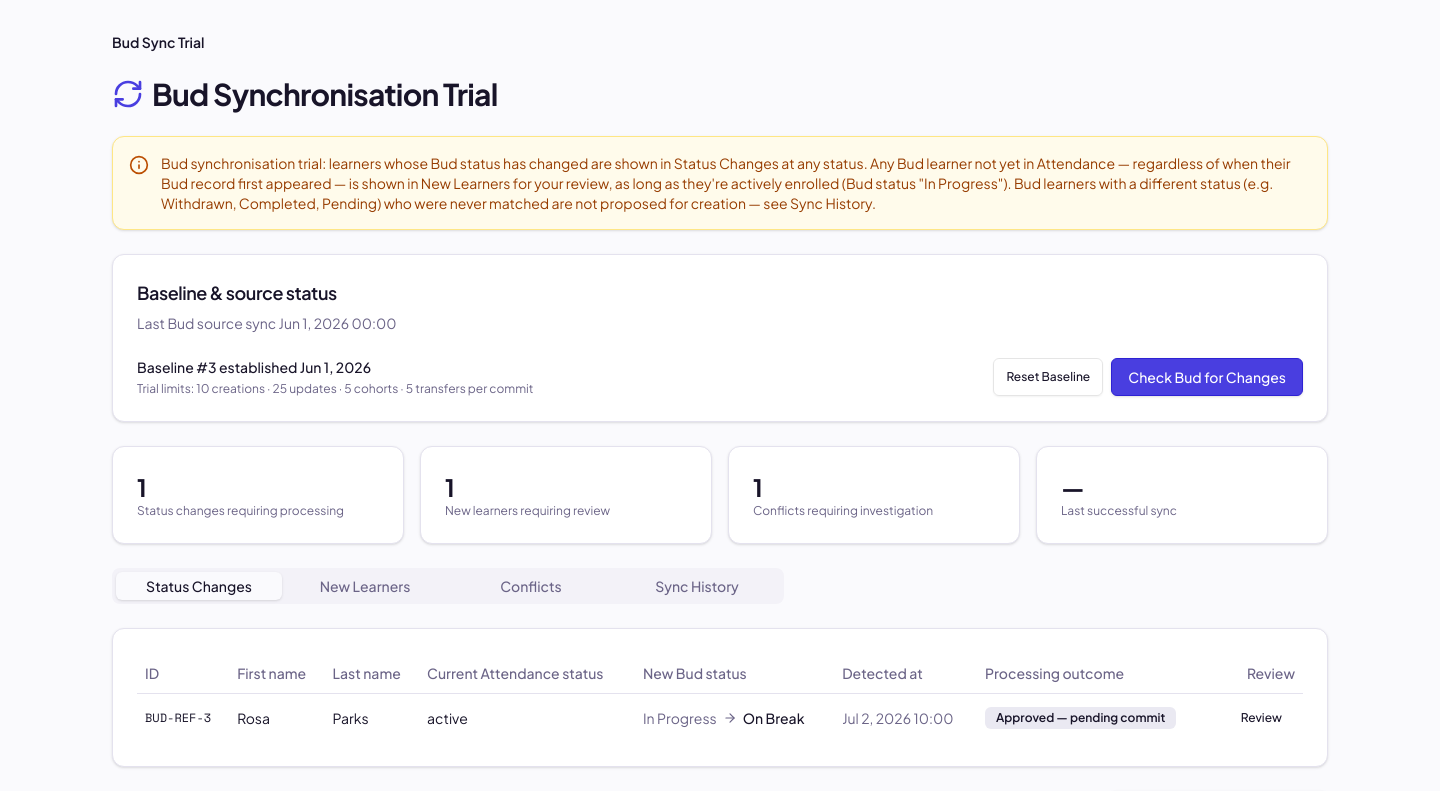
Test: BudSyncTrialPage › New Learners tab paginates once there are more results than fit on one page
The image size is (1440, 791).
Click the tab "New Learners" at (365, 586), box [282,572,448,600]
(page scrolled)
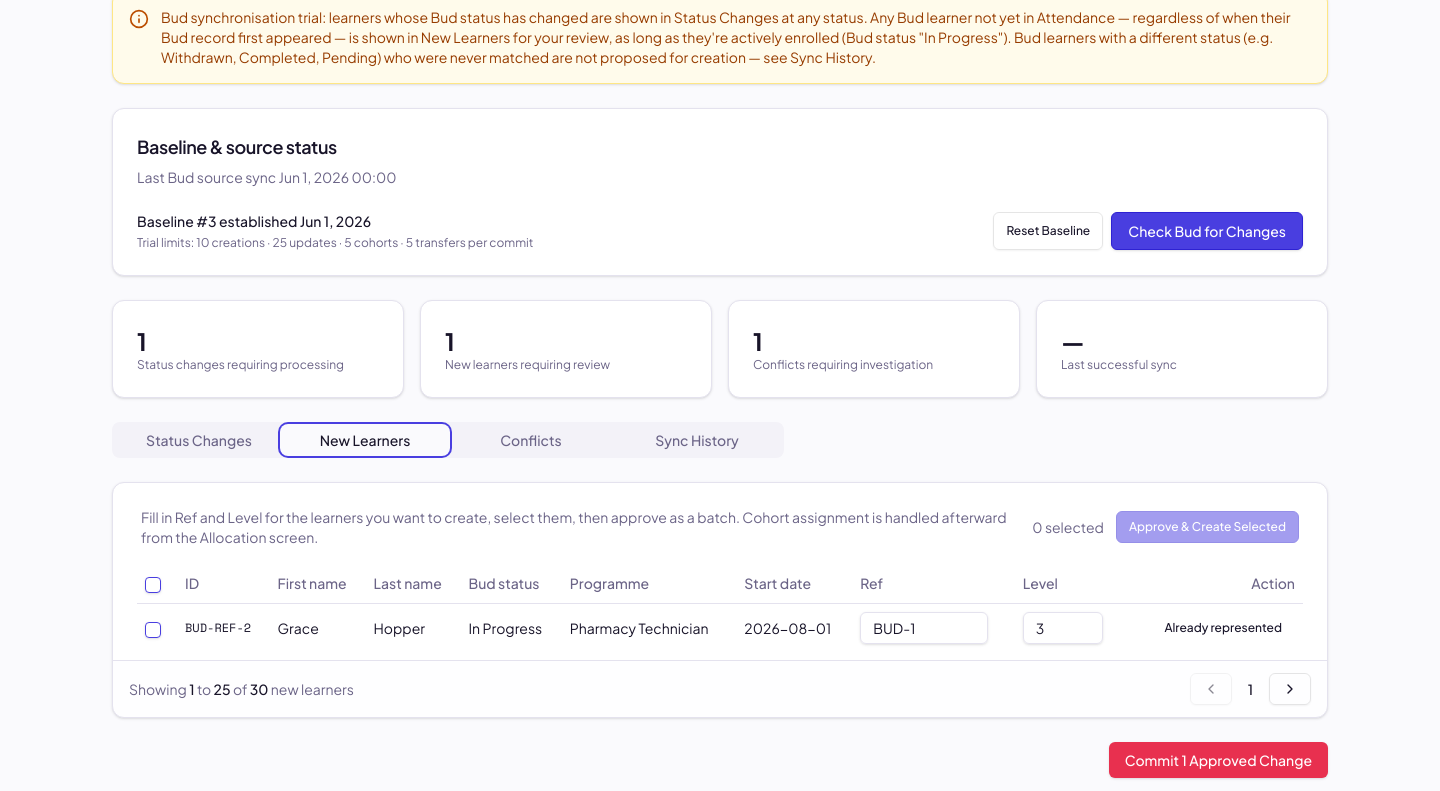
Result: the element with test id "new-learners-pager-summary" reads "Showing 1 to 25 of 30 new learners" at [129,678,354,698]
Result: the button named "previous page of new learners" is disabled at [1190,672,1232,704]
Result: the button named "next page of new learners" is enabled
Click the button named "next page of new learners" at (1290, 688), box [1269,672,1311,704]
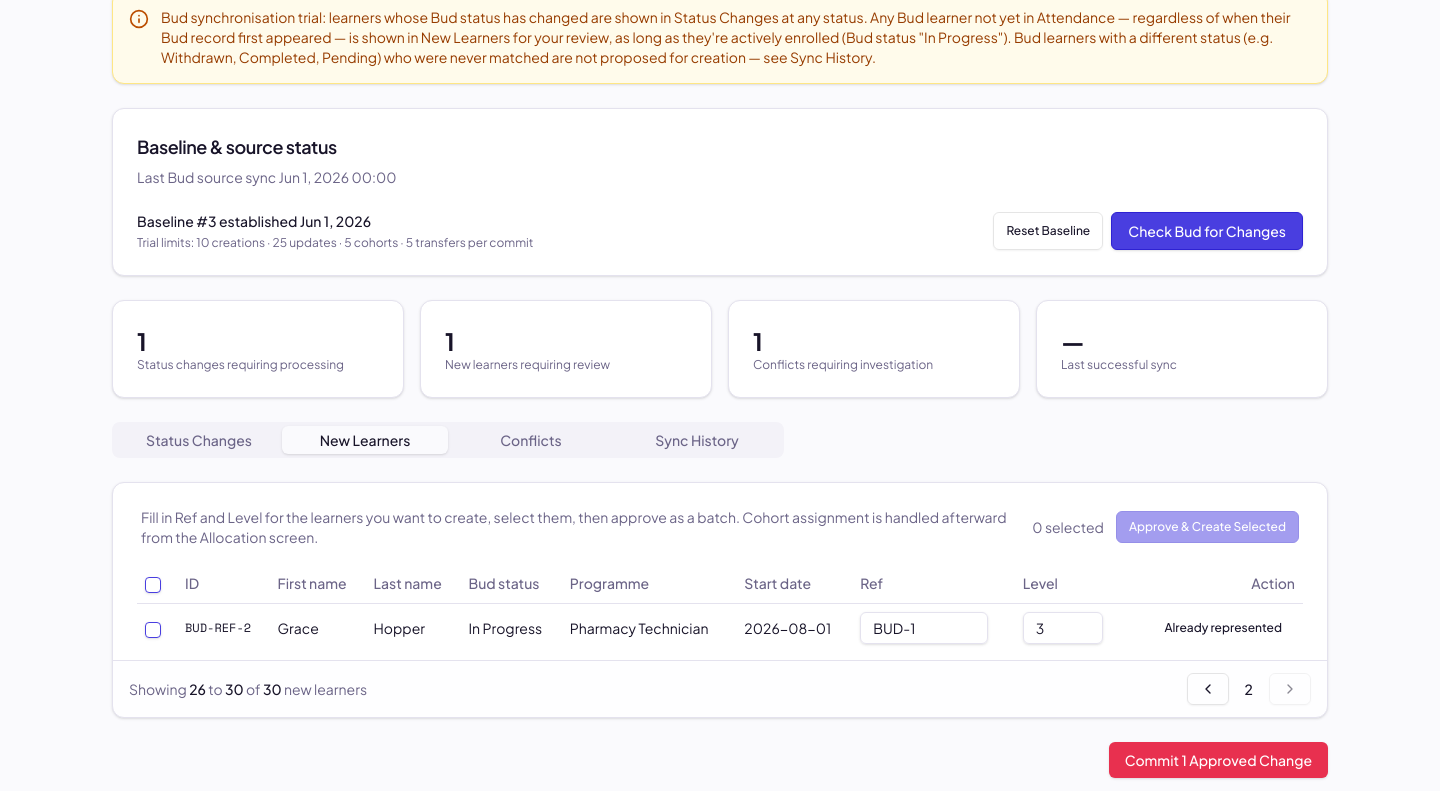
Result: the element with test id "new-learners-pager-summary" reads "Showing 26 to 30 of 30 new learners" at [129,678,367,698]
